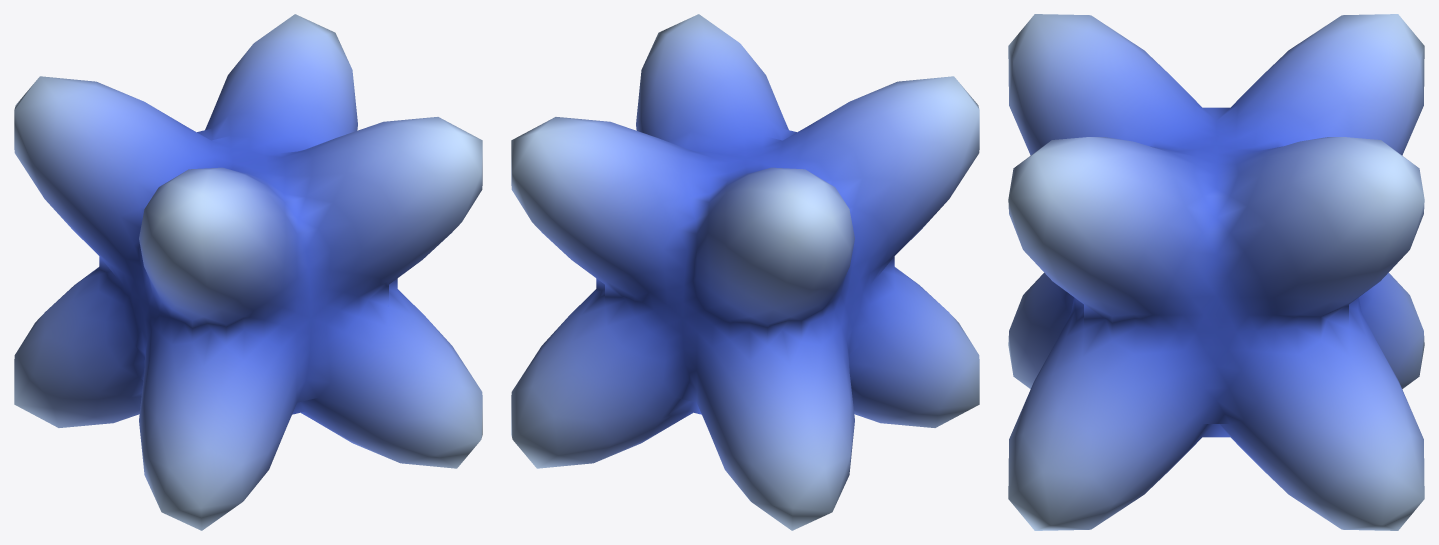
The model's file is night_star.fbx.
3 renders of one model, left to right at view 1: azimuth 30°, elevation 25°; view 2: azimuth 150°, elevation 25°; view 3: azimuth 270°, elevation 25°, orthographic. The views are drawn at different scales.
Visible parts, largest first — view 1: night_star; view 2: night_star; view 3: night_star.
Part boxes in pixels (<box>): night_star: <box>14,14,482,530</box>; night_star: <box>511,14,979,530</box>; night_star: <box>1008,14,1424,530</box>.
Size of the model in its own units: 0.08 by 0.08 by 0.08.
Materials: 1 (1 with a texture image).
